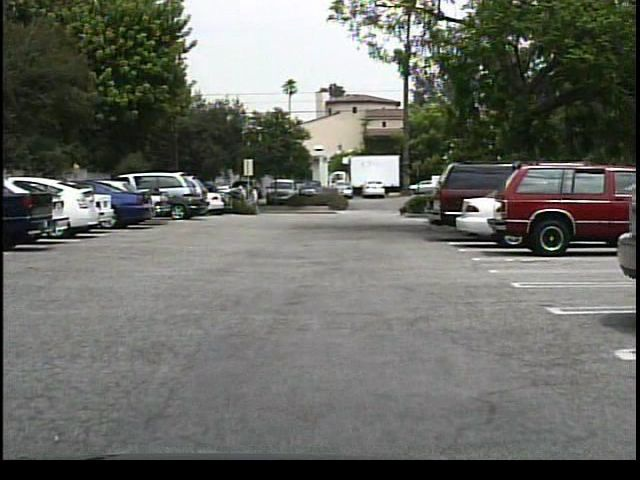person: (234, 183, 250, 212), (245, 185, 257, 216), (250, 184, 262, 214)
